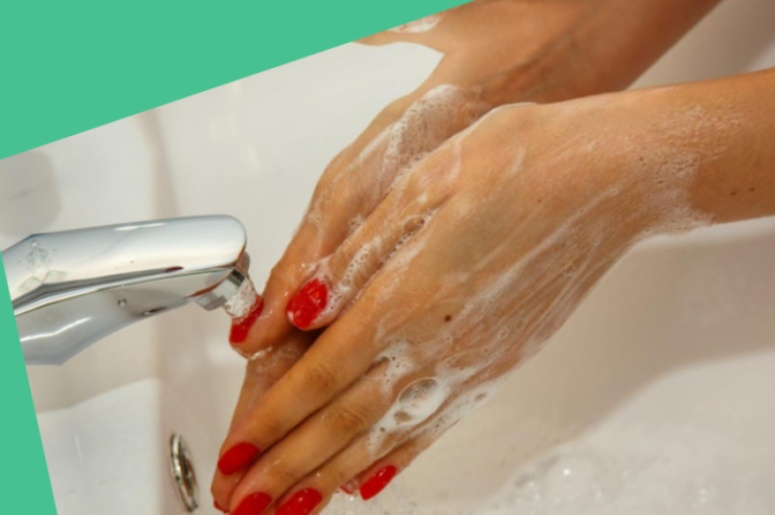washing hand: (23, 30, 774, 514)
